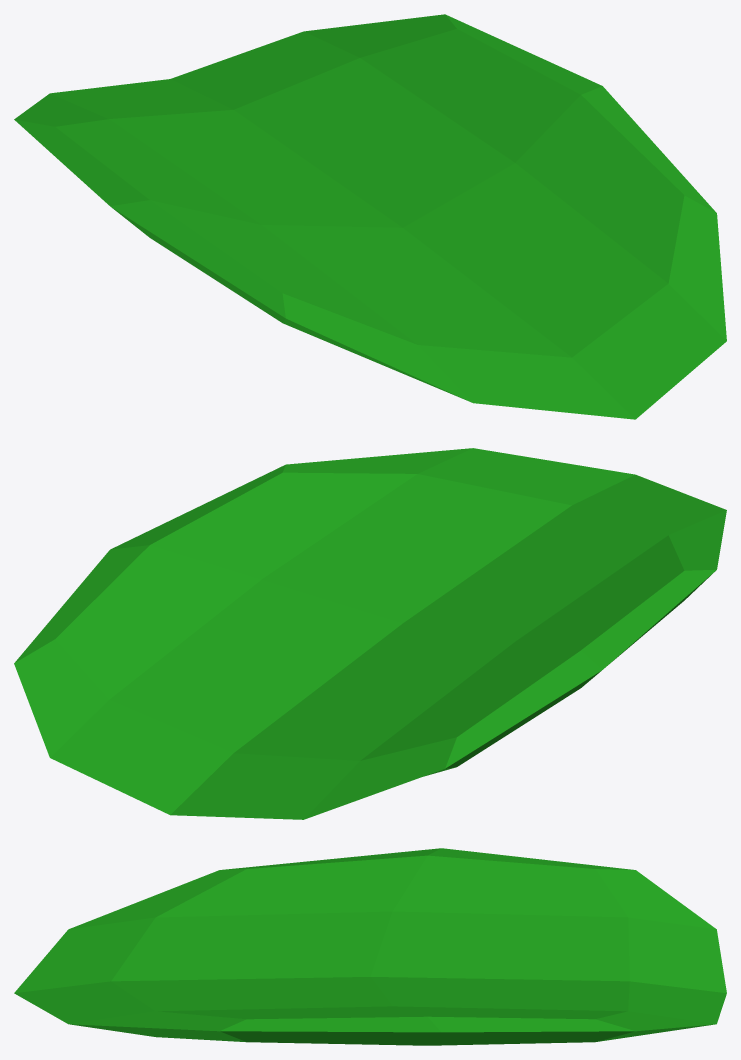
Rendered from leaf.fbx.
3 views of the same model, one above another, from view 1: azimuth 30°, elevation 25°; view 2: azimuth 150°, elevation 25°; view 3: azimuth 270°, elevation 25° (orthographic). The views are drawn at different scales.
Visible parts, largest first — view 1: leaf; view 2: leaf; view 3: leaf.
Part boxes in pixels (x1=…): leaf: x1=14, y1=14, x2=726, y2=419; leaf: x1=14, y1=448, x2=726, y2=819; leaf: x1=14, y1=848, x2=726, y2=1045.
Size of the model in its own units: 24.62 by 4.58 by 40.27.
